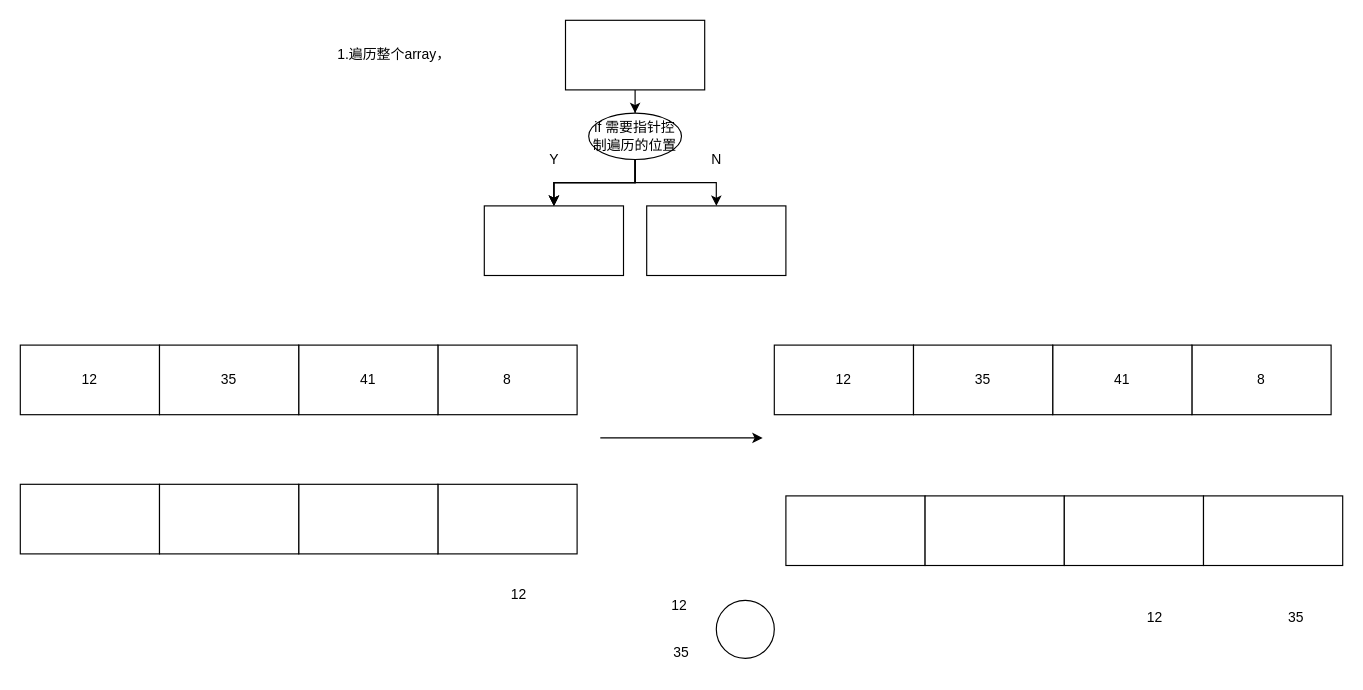
This 1363x690 diagram has some shape labels left out. Here are the shapes that lost their labels. From the top down, the centre of each, then its label:
At point (634, 54): "遍历整个array".
At point (553, 240): "while".
At point (716, 240): "for".
At point (744, 628): "compare".
